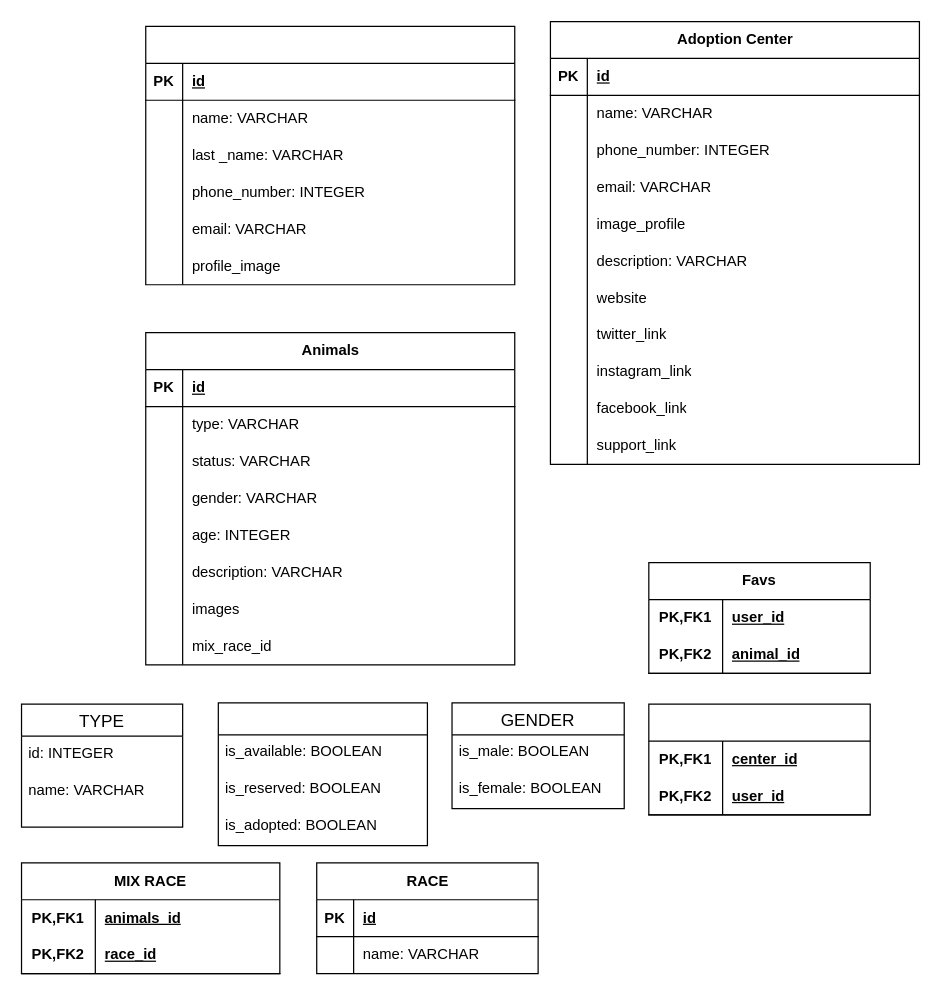
The diagram is 941 pixels wide and 995 high, and some of its shapes have lost their labels. Each missing label, with the box of its shape:
ADOPTATION STATUS: (217, 702, 427, 846)
Follows: (648, 703, 870, 815)
User: (145, 25, 515, 285)
